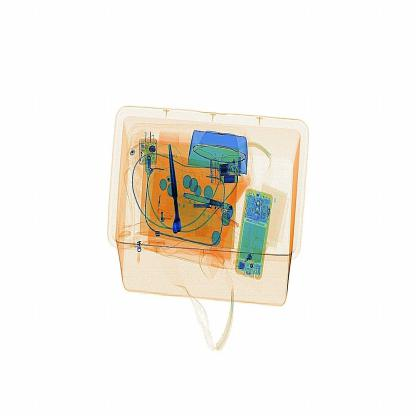gun: (159, 127, 193, 238)
